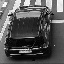motor: (14, 5, 49, 56)
